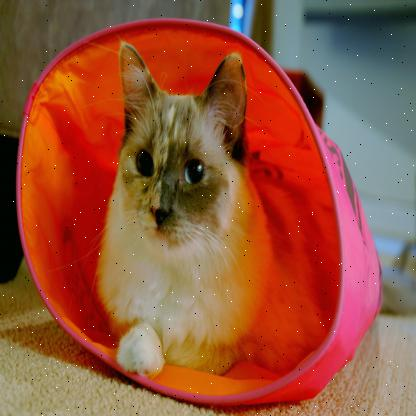cat: (99, 31, 272, 377)
